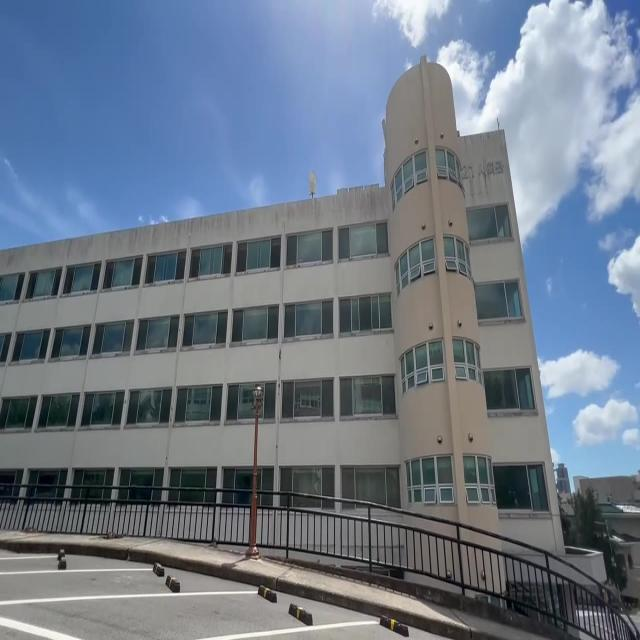building: (8, 94, 548, 542)
